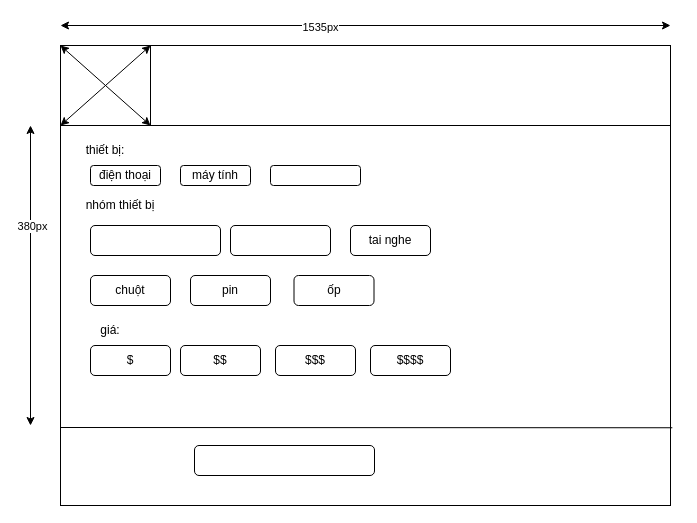
The diagram is 697 pixels wide and 523 high, and some of its shapes have lost their labels. Here are the shapes that lost their labels. From the top down, the centre of each, then its label:
the point at 105,85: 100 x 100
the point at 315,175: phụ kiện khác
the point at 155,240: phụ kiện điện thoại
the point at 280,240: phụ kện máy tính
the point at 284,460: áp dụng
